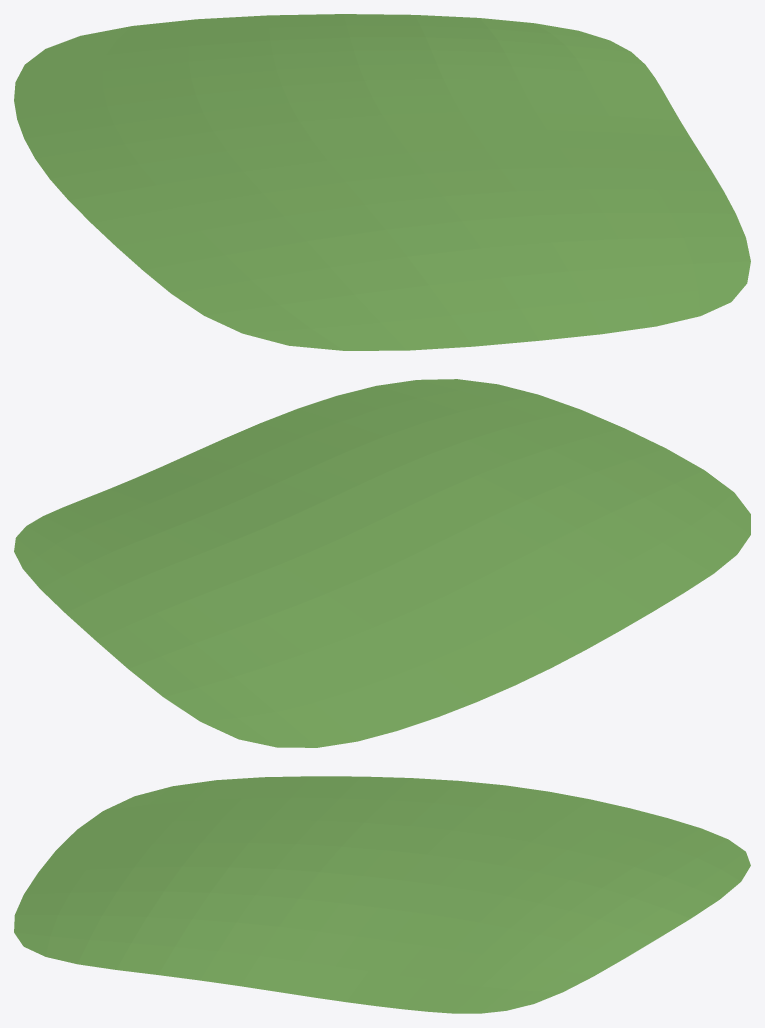
Rendered from lvl1grass_beach.fbx.
3 views of the same model, one above another, from view 1: azimuth 30°, elevation 25°; view 2: azimuth 150°, elevation 25°; view 3: azimuth 270°, elevation 25° (orthographic). The views are drawn at different scales.
Visible parts, largest first — view 1: grass_beach; view 2: grass_beach; view 3: grass_beach.
Boxes of the visible parts, bbox=[...] form: grass_beach: bbox=[14, 14, 750, 350]; grass_beach: bbox=[14, 379, 750, 747]; grass_beach: bbox=[14, 776, 750, 1013].
Size of the model in its own units: 882 by 49.78 by 1153.
